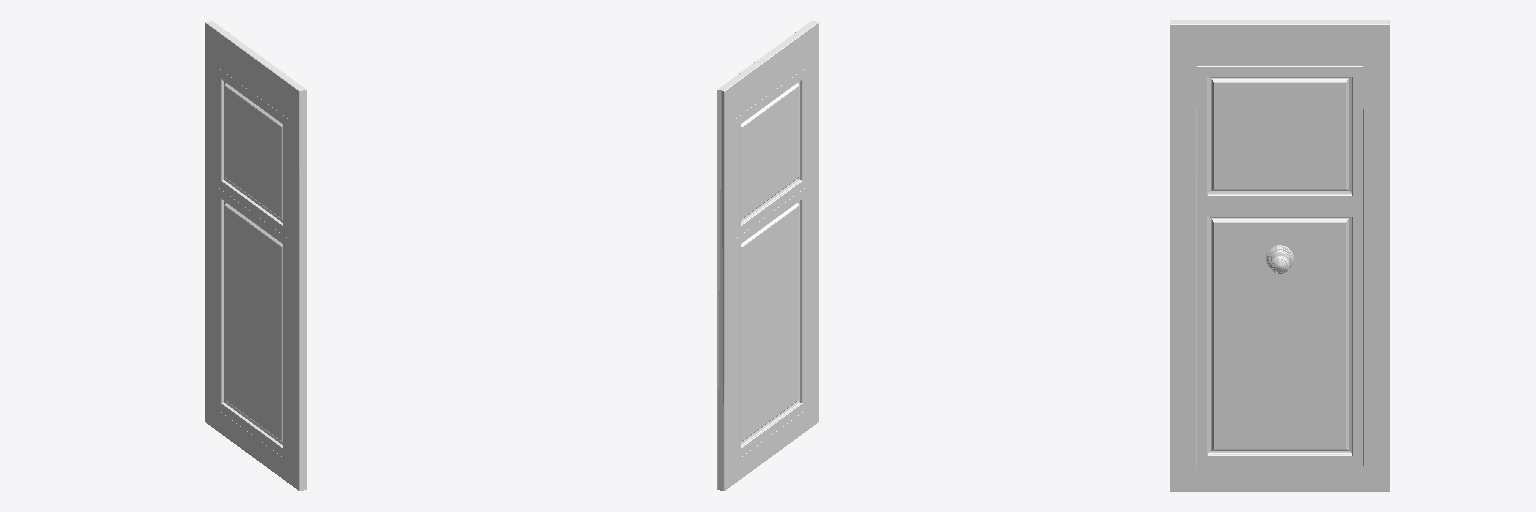
URDF robot description (door_robot):
<?xml version="1.0" ?>
<!-- =================================================================================== -->
<!-- |    This document was autogenerated by xacro from urdf_xacro/door_handle.urdf.xacro | -->
<!-- |    EDITING THIS FILE BY HAND IS NOT RECOMMENDED                                 | -->
<!-- =================================================================================== -->
<robot name="door_robot">
  <link name="world"/>
  <joint name="handle_door" type="fixed">
    <!-- Hier xyz für door zu handle offset -->
    <origin rpy="0 0 0" xyz="0.0 0.0 0.0"/>
    <parent link="door_plane"/>
    <child link="door_handle"/>
    <axis xyz="0 0 0"/>
    <dynamics friction="0.4960139088111456"/>
    <limit lower="0.0" upper="1.57"/>
  </joint>
  <link name="door_handle">
    <inertial>
      <origin xyz="0 0 0"/>
      <mass value="2.6409912742551773"/>
      <inertia ixx="0.0" ixy="0.0" ixz="0.0" iyy="0.0" iyz="0.0" izz="0.0"/>
    </inertial>
    <visual>
      <origin xyz="0 0 0"/>
      <geometry>
        <!-- <mesh filename="handle_edited.obj" rpy="0 0 0" /> -->
        <mesh filename="obj/knob_small.obj" rpy="0 0 0"/>
      </geometry>
      <material name="wood">
        <color rgba="1 1 1 1"/>
      </material>
    </visual>
    <!--<collision>
                <origin xyz="-0.148404 0.486267 4.17233e-07" />
                <geometry>
                    <mesh filename="handle_edited.obj" rpy="0 0 0" />
                </geometry>
            </collision>-->
  </link>
  <joint name="door_world" type="fixed">
    <origin rpy="0 0 0" xyz="0 0 1"/>
    <parent link="world"/>
    <child link="door_plane"/>
    <axis xyz="0 0 0"/>
    <dynamics friction="0.4960139088111456"/>
    <limit lower="0.0" upper="1.57"/>
  </joint>
  <link name="door_plane">
    <inertial>
      <origin xyz="0 0 0"/>
      <mass value="2.6409912742551773"/>
      <inertia ixx="0.0" ixy="0.0" ixz="0.0" iyy="0.0" iyz="0.0" izz="0.0"/>
    </inertial>
    <visual>
      <origin xyz="0 0 0"/>
      <geometry>
        <mesh filename="obj/door2.obj" rpy="0 0 0"/>
      </geometry>
      <material name="wood">
        <color rgba="1 1 1 1"/>
      </material>
    </visual>
    <!--<collision>
                <origin xyz="-0.148404 0.486267 4.17233e-07" />
                <geometry>
                    <mesh filename="door2.obj" rpy="0 0 0" />
                </geometry>
            </collision>-->
  </link>
</robot>

--- Facts derived from the render (not from the file) ---
3 views of the same robot in one strip: view 1: azimuth 30°, elevation 25°; view 2: azimuth 150°, elevation 25°; view 3: azimuth 270°, elevation 25° (orthographic).
Model door_robot with 3 links and 2 joints (2 fixed), rooted at world, posed all joints at 0.
Visible links, largest first — view 1: door_plane; view 2: door_plane; view 3: door_plane, door_handle.
Boxes of the visible links, x1=… form: door_plane: x1=205, y1=21, x2=306, y2=490; door_plane: x1=717, y1=21, x2=818, y2=490; door_plane: x1=1170, y1=20, x2=1389, y2=491; door_handle: x1=1266, y1=245, x2=1293, y2=273.
Size in the robot's own frame: 0.1186 by 0.8558 by 2 metres.
Meshes: 2 distinct files referenced, 2 mesh visuals loaded (2 OBJ).